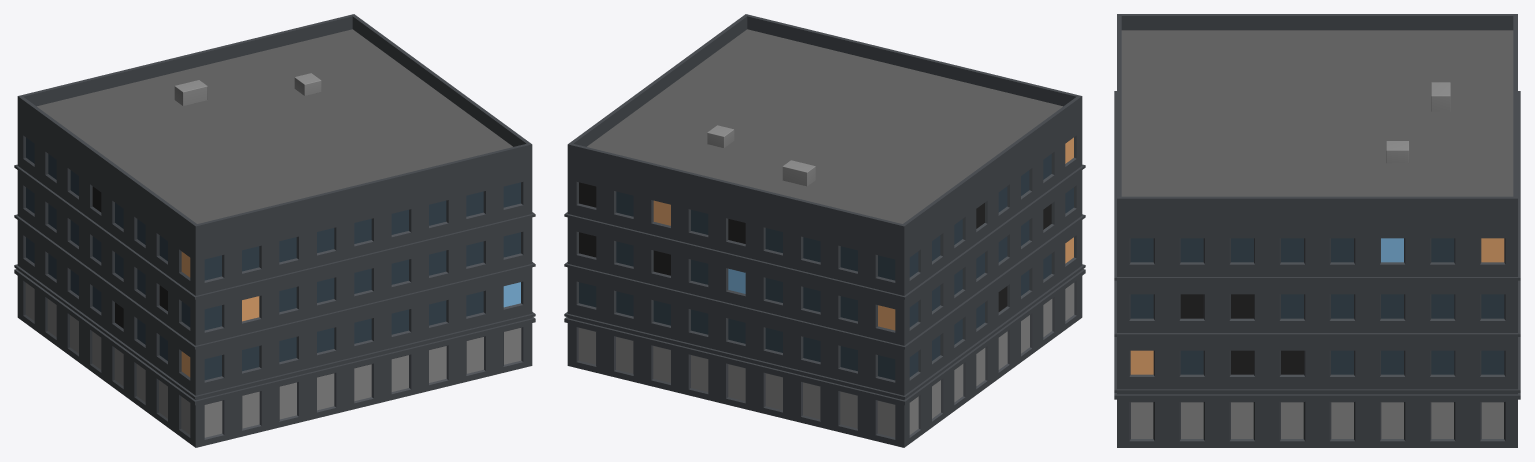
The model's file is Building_Block_D.fbx.
3 views of the same model, side by side, from view 1: azimuth 30°, elevation 25°; view 2: azimuth 150°, elevation 25°; view 3: azimuth 270°, elevation 25° (orthographic). The views are drawn at different scales.
Parts seen in each view (by area): view 1: Building_Block_D_LOD0; view 2: Building_Block_D_LOD0; view 3: Building_Block_D_LOD0.
Part boxes in pixels (box(x1,y1,x2,y2)): Building_Block_D_LOD0: box(14, 14, 535, 447); Building_Block_D_LOD0: box(564, 14, 1085, 447); Building_Block_D_LOD0: box(1114, 14, 1520, 447).
Size of what is drawn, in the model's own units: 24.3 by 15.19 by 22.3.
